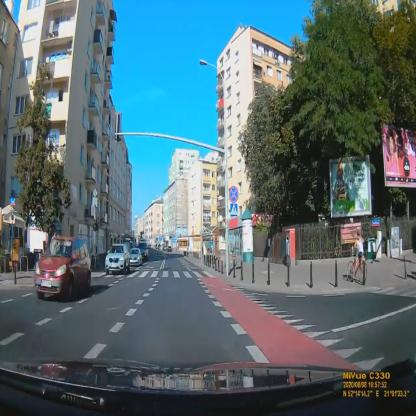cars: (34, 235, 91, 301), (106, 243, 130, 277), (127, 247, 143, 267)
